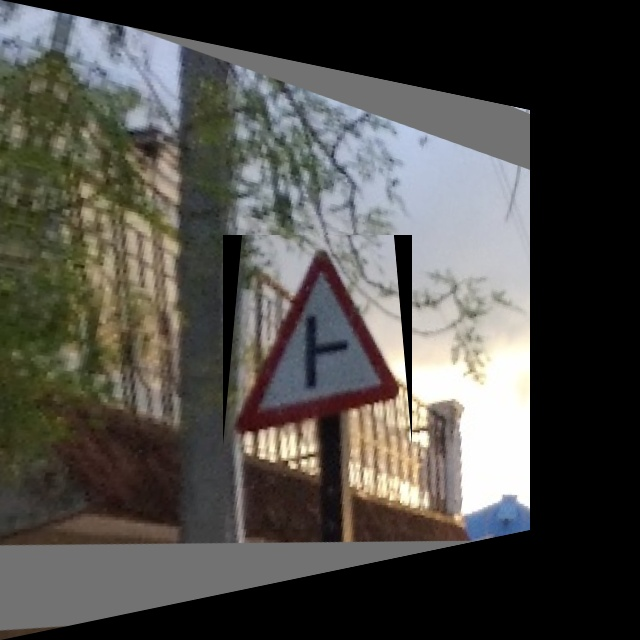Side_Road_Right: (223, 235, 412, 446)
